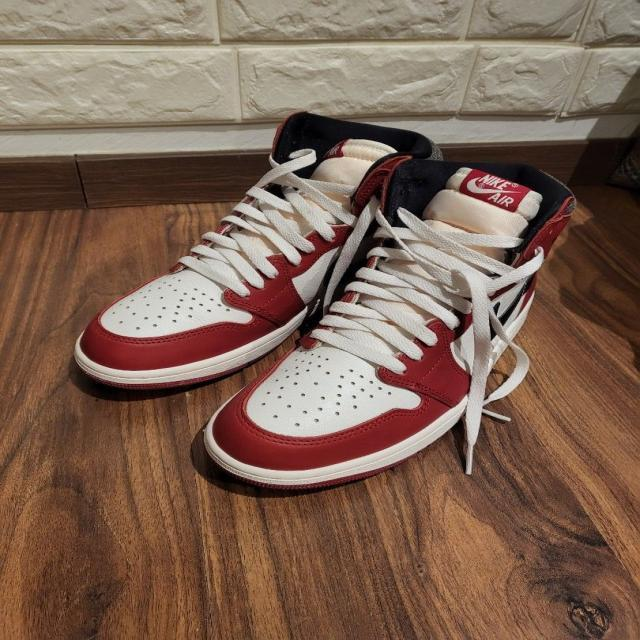nike original jordan 1: (199, 161, 579, 495), (71, 113, 438, 397)
